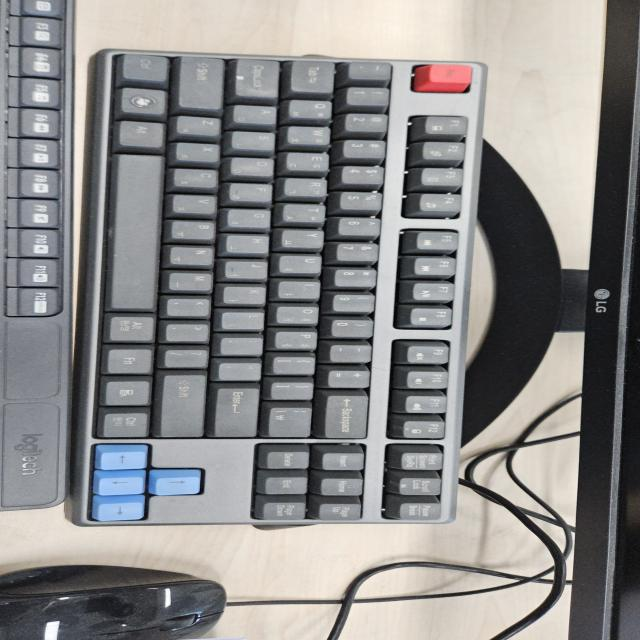Keyboard: (67, 46, 486, 526), (0, 0, 75, 517)
Mouse: (2, 563, 230, 638)
